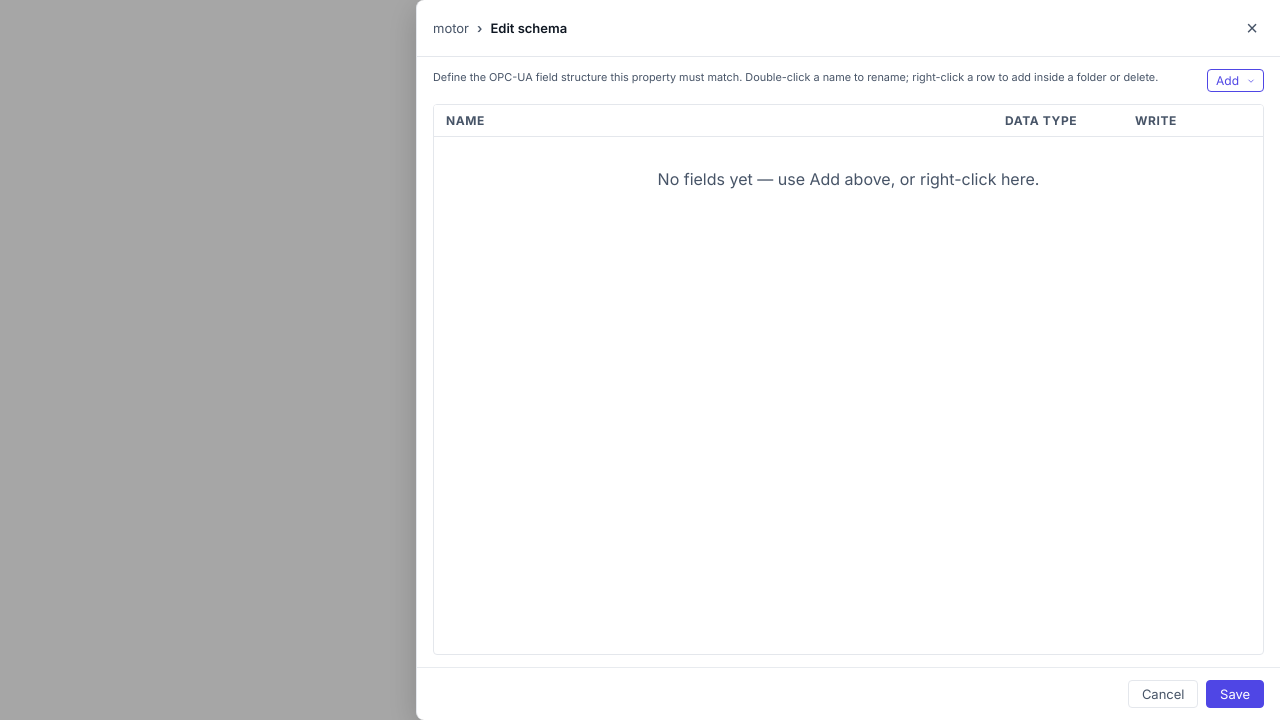
Test: StructSchemaModal › adds a folder, then a nested field inside it via a right-click scoped to that folder
Right-click the element with class "struct-schema-table" at (848, 380), box [433,104,1264,655]
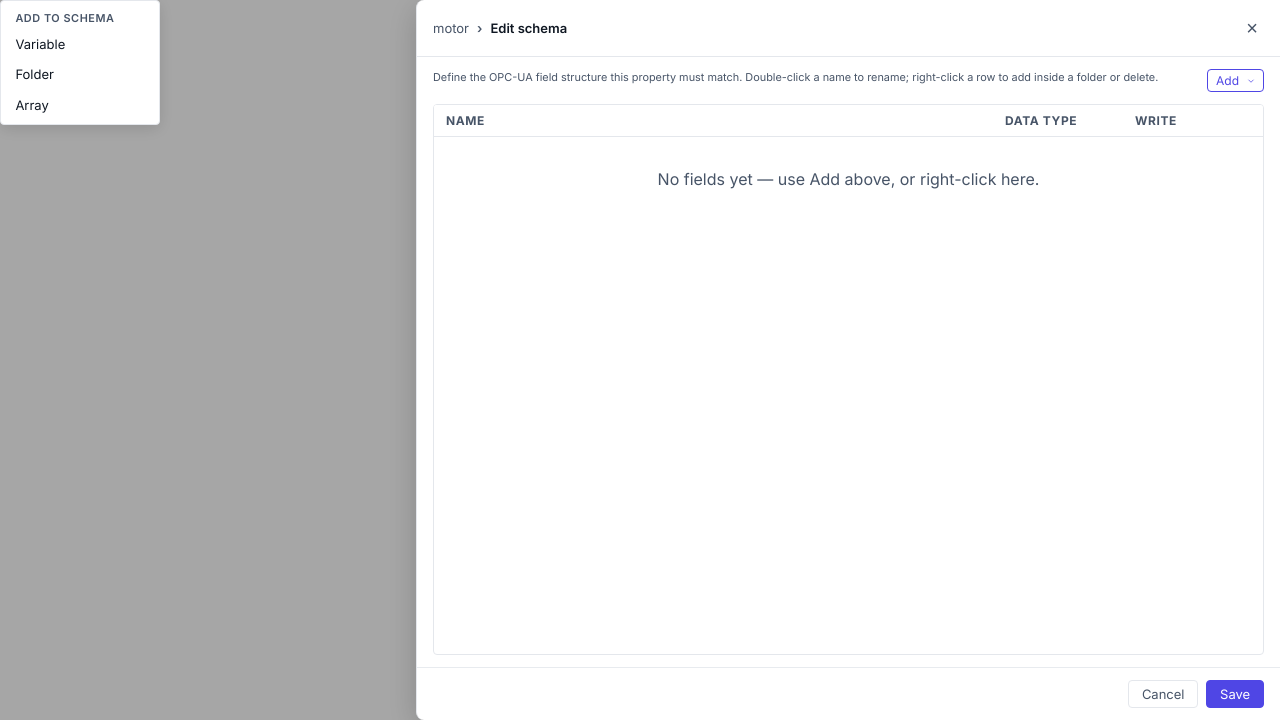
Click the button "Folder". click: (80, 74)
box: [1,59,159,89]
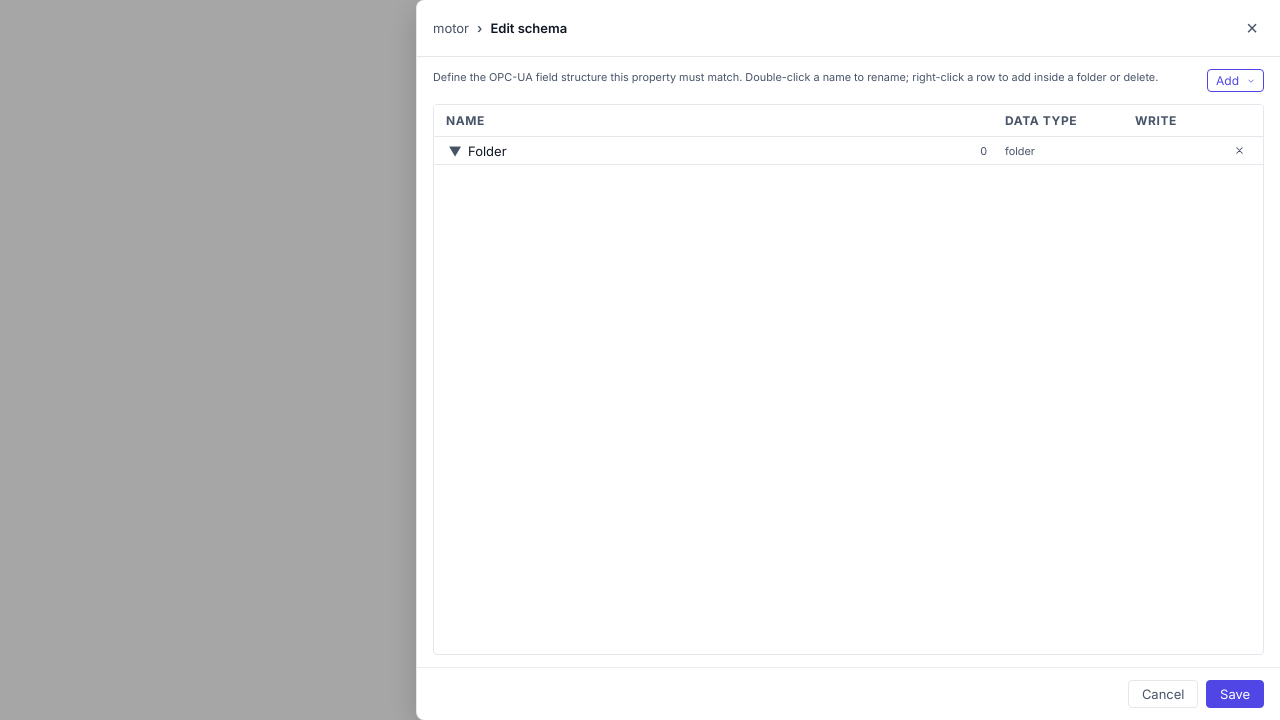
Result: the text "Folder" is shown at [468,142,506,158]
Right-click the text "Folder" at (848, 151), box [434,137,1263,165]
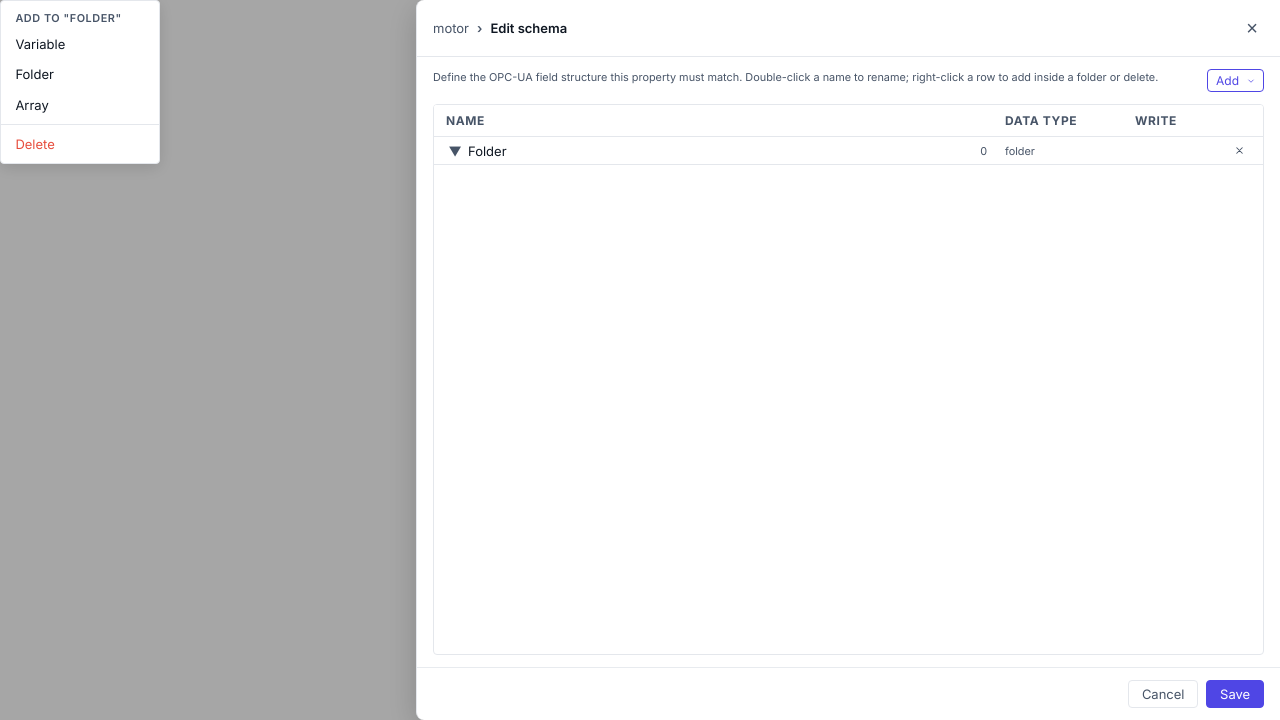
Result: the text "Add to \"Folder\"" is shown at [15,11,122,25]
Click the button "Variable". click: (80, 44)
box: [1,29,159,59]
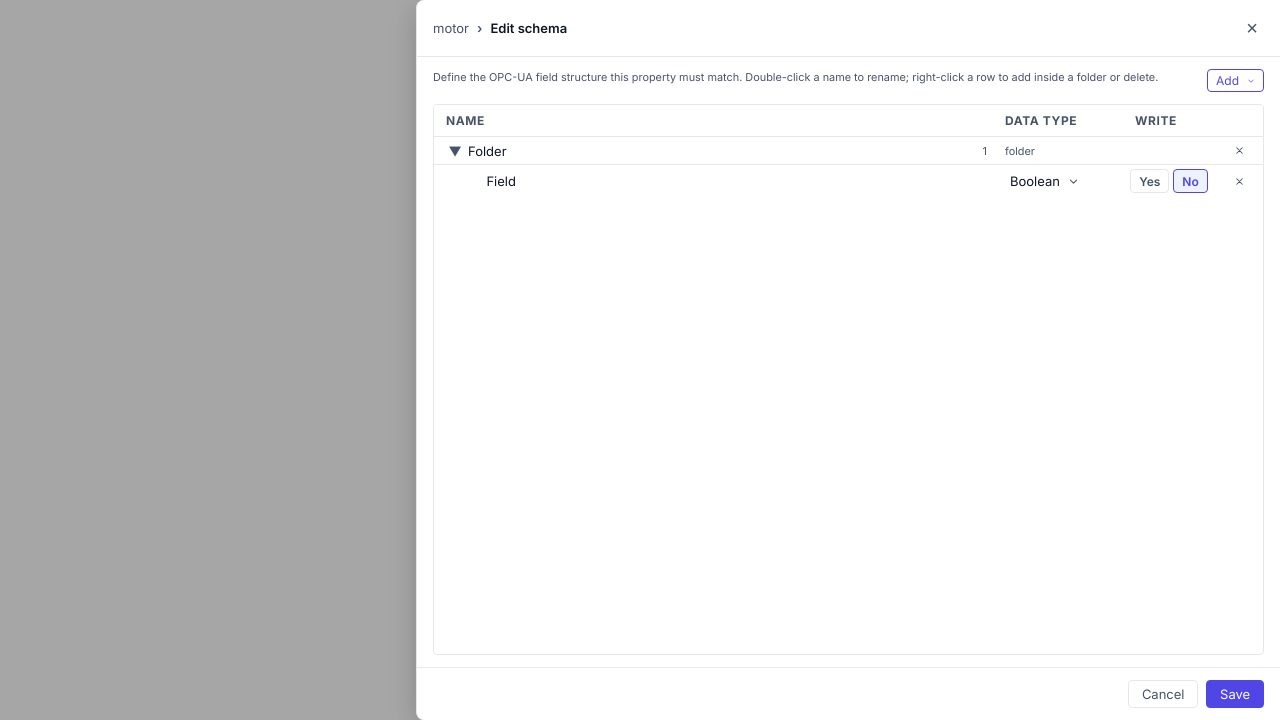
Result: the text "Field" is shown at [486,173,516,189]
